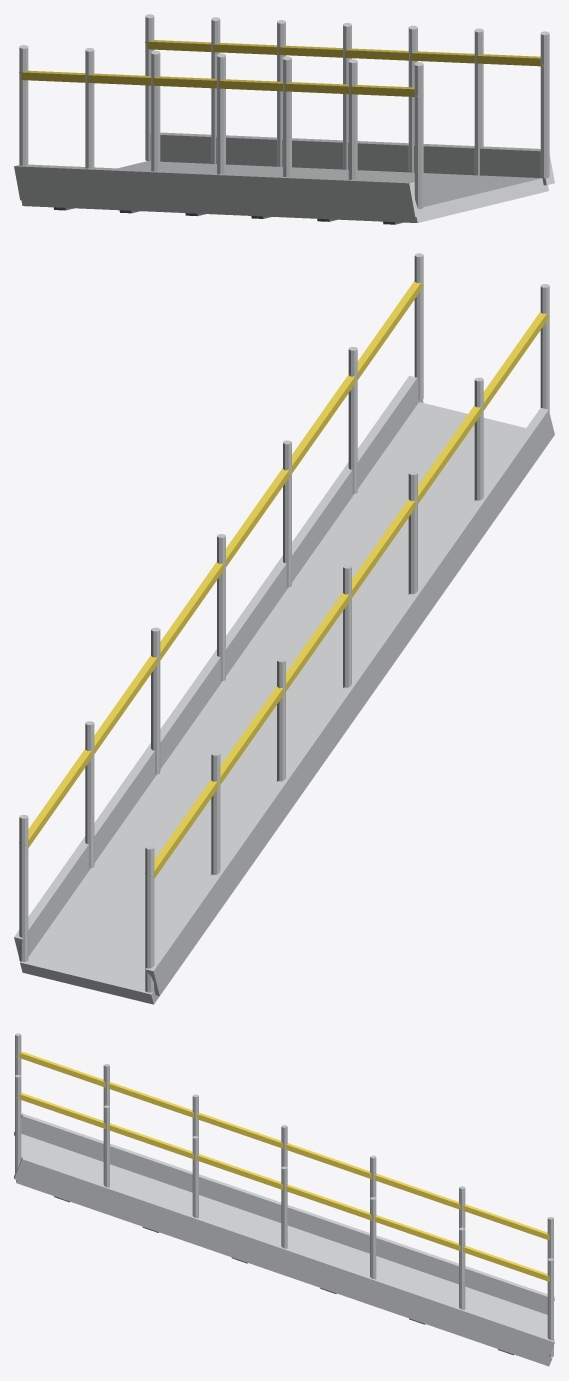
File: fish-market-and-trawler-quay-fish-market-and-trawler-q-fd2ec9d9__37266.glb
3 views of the same model, one above another, from view 1: azimuth 30°, elevation 25°; view 2: azimuth 150°, elevation 25°; view 3: azimuth 270°, elevation 25° (orthographic). The views are drawn at different scales.
Parts seen in each view (by area): view 1: fish-market-and-trawler-quay-gangway-brow; view 2: fish-market-and-trawler-quay-gangway-brow; view 3: fish-market-and-trawler-quay-gangway-brow.
Part boxes in pixels (<box>): fish-market-and-trawler-quay-gangway-brow: <box>14,14,554,224</box>; fish-market-and-trawler-quay-gangway-brow: <box>14,253,554,1004</box>; fish-market-and-trawler-quay-gangway-brow: <box>14,1033,554,1366</box>.
Bounding box in the file's own units: 1.02 × 3 × 5.08.
